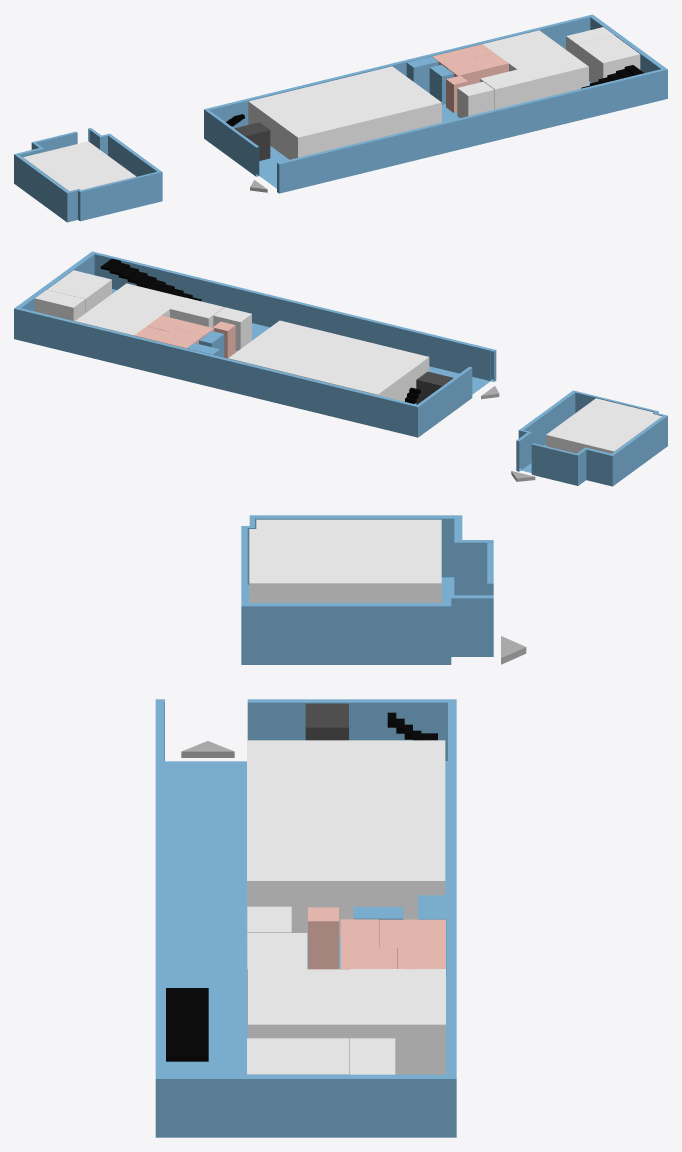
3 renders of one model, top to bottom at view 1: azimuth 30°, elevation 25°; view 2: azimuth 150°, elevation 25°; view 3: azimuth 270°, elevation 25°, orthographic. The views are drawn at different scales.
Parts seen in each view (by area): view 1: object, LEARING STUDIO211, 大学院事務室, 展示実習室, 収録スタジオ, 博物館実習室, 博物館実習室準備室, 実習室受付, 男子トイレ_2_1_1, 女子トイレ_2_1_1, エレベーター_2_1_1, 調整室 (+2 smaller); view 2: object, LEARING STUDIO211, 大学院事務室, 展示実習室, 博物館実習室, 収録スタジオ, 調整室, 階段_2_1_1, 博物館実習室準備室, 実習室受付, 女子トイレ_2_1_1, 男子トイレ_2_1_1 (+2 smaller); view 3: object, LEARING STUDIO211, 大学院事務室, 博物館実習室, 展示実習室, 収録スタジオ, 階段_2_1_1, 女子トイレ_2_1_1, 男子トイレ_2_1_1, 博物館実習室準備室, バリアフリートイレ_2_1_1, 調整室 (+2 smaller).
Part boxes in pixels (box(x1,y1,x2,y2)): object: box(14, 14, 667, 222); LEARING STUDIO211: box(248, 66, 441, 159); 大学院事務室: box(23, 141, 136, 191); 展示実習室: box(507, 48, 588, 100); 収録スタジオ: box(577, 35, 640, 82); 博物館実習室: box(482, 30, 562, 61); 博物館実習室準備室: box(480, 69, 532, 109); 実習室受付: box(457, 81, 494, 117); 男子トイレ_2_1_1: box(448, 53, 508, 84); 女子トイレ_2_1_1: box(432, 44, 493, 68); エレベーター_2_1_1: box(234, 122, 270, 160); 調整室: box(566, 27, 614, 57); object: box(14, 251, 667, 486); LEARING STUDIO211: box(228, 320, 429, 401); 大学院事務室: box(546, 398, 661, 453); 展示実習室: box(100, 283, 184, 317); 博物館実習室: box(75, 303, 158, 335); 収録スタジオ: box(47, 270, 111, 313); 調整室: box(35, 290, 85, 321); 階段_2_1_1: box(100, 258, 201, 301); 博物館実習室準備室: box(170, 297, 224, 327); 実習室受付: box(213, 307, 251, 350); 女子トイレ_2_1_1: box(134, 326, 203, 348); 男子トイレ_2_1_1: box(147, 315, 214, 336); object: box(155, 515, 493, 1137); LEARING STUDIO211: box(247, 740, 445, 937); 大学院事務室: box(249, 519, 441, 602); 博物館実習室: box(350, 969, 445, 1074); 展示実習室: box(248, 969, 350, 1074); 収録スタジオ: box(247, 1038, 349, 1074); 階段_2_1_1: box(166, 988, 208, 1061); 女子トイレ_2_1_1: box(379, 919, 445, 969); 男子トイレ_2_1_1: box(340, 919, 397, 969); 博物館実習室準備室: box(247, 933, 307, 1025); バリアフリートイレ_2_1_1: box(308, 907, 338, 969); 調整室: box(350, 1038, 395, 1074).
Bounding box in the file's own units: 3.5 × 0.1872 × 0.9721.
